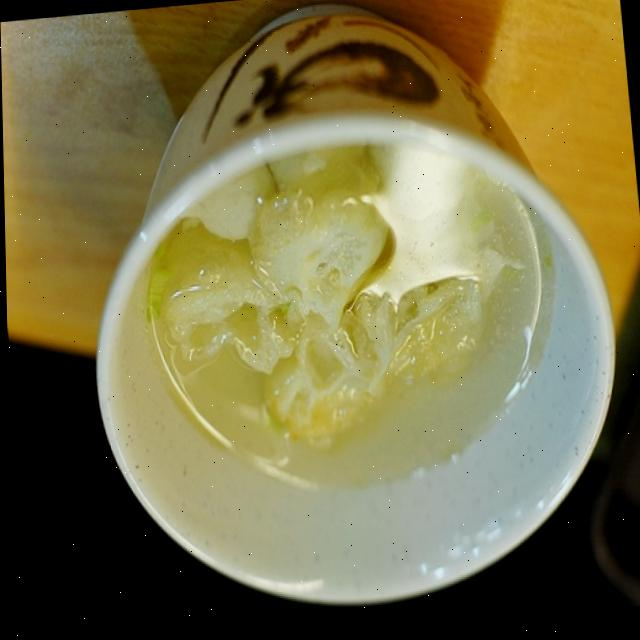熟制海鲜: (63, 40, 621, 623)
